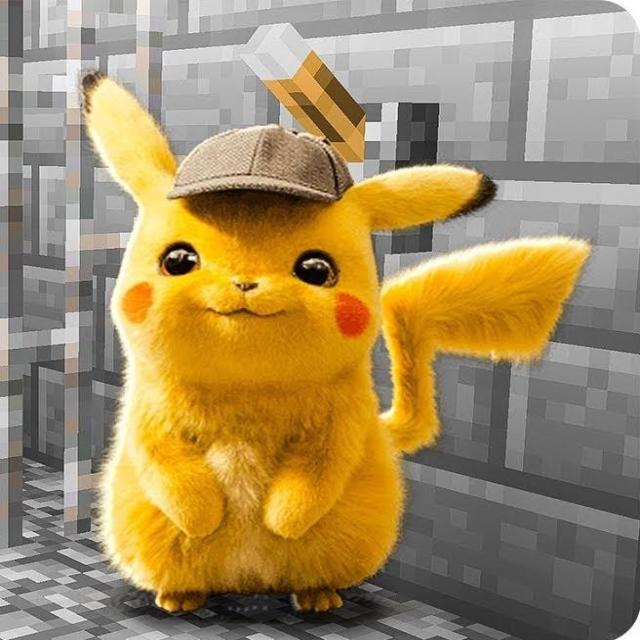pikachu: (84, 78, 587, 612)
